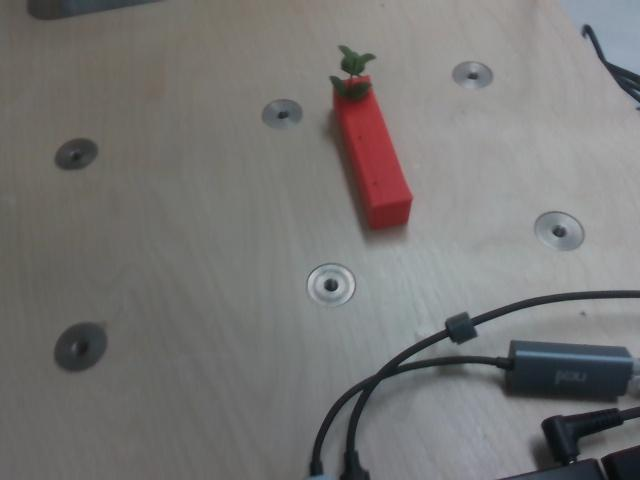leaf: (327, 41, 379, 106)
